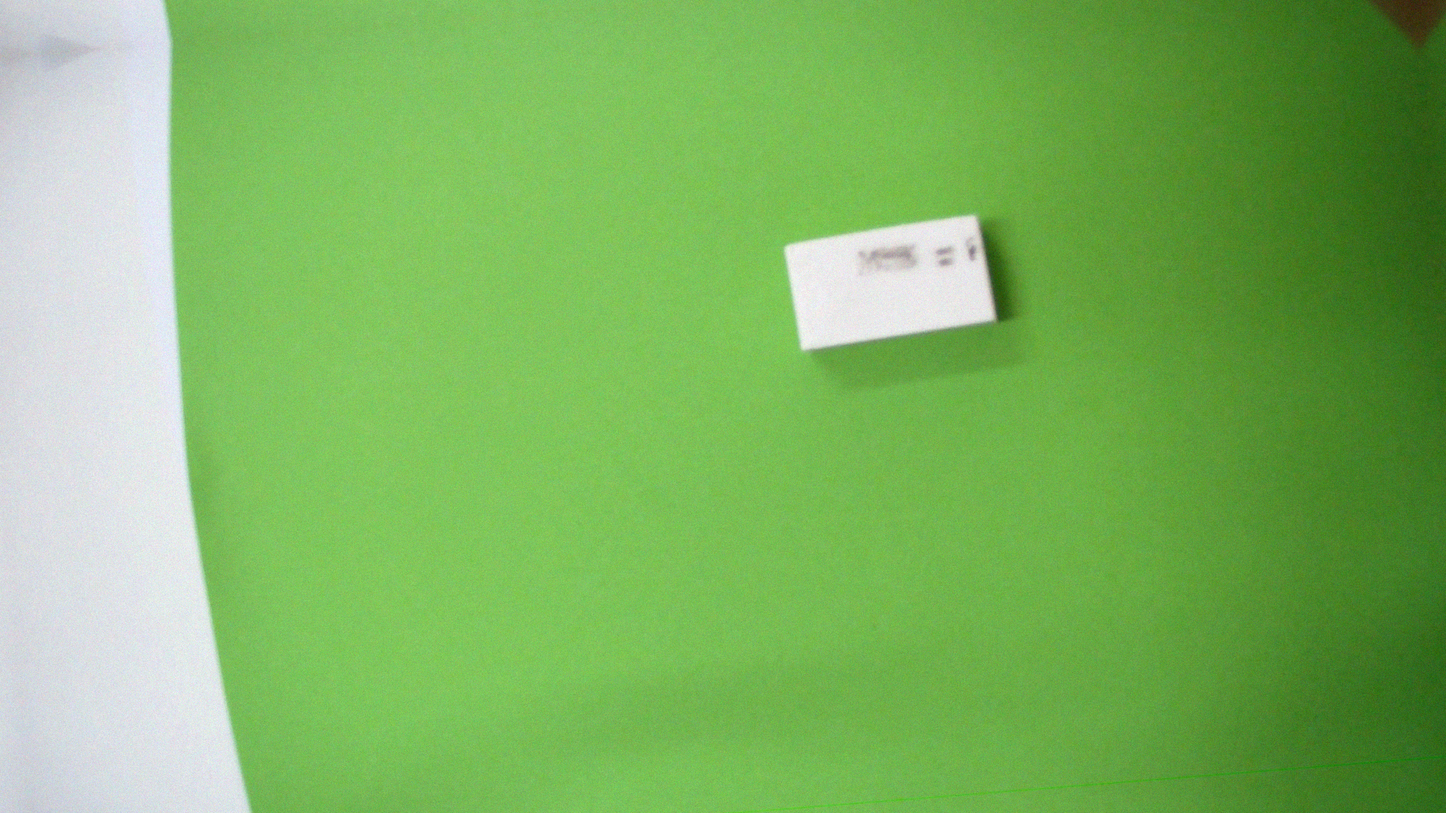gom: (781, 201, 1002, 362)
